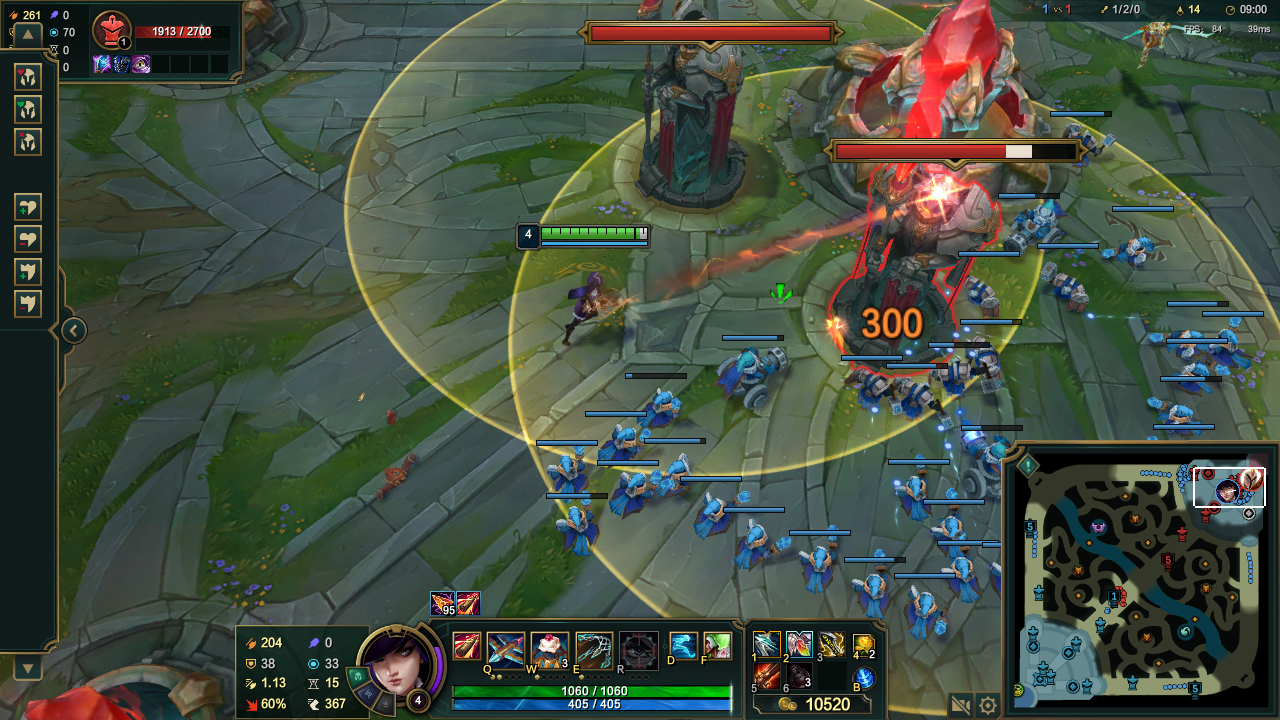DFDSJ: (842, 11, 1048, 137)
DFFYT: (840, 151, 976, 383), (631, 20, 753, 209)
